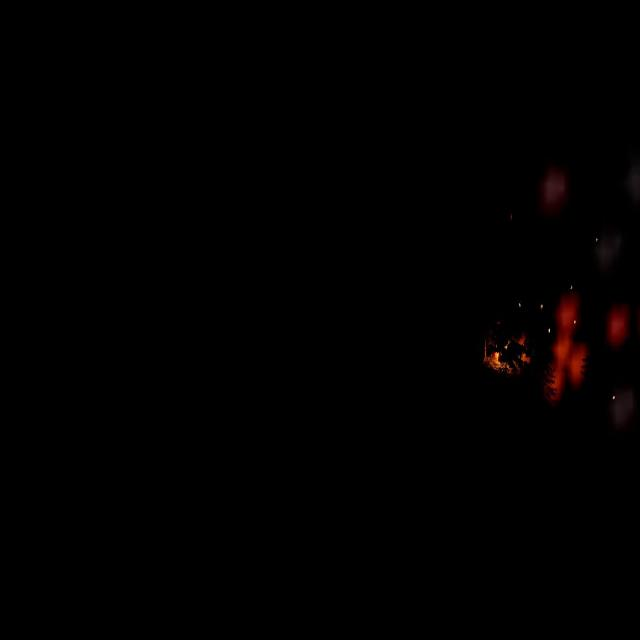fire: (484, 342, 504, 368)
smoke: (518, 232, 640, 400), (543, 172, 570, 216)
